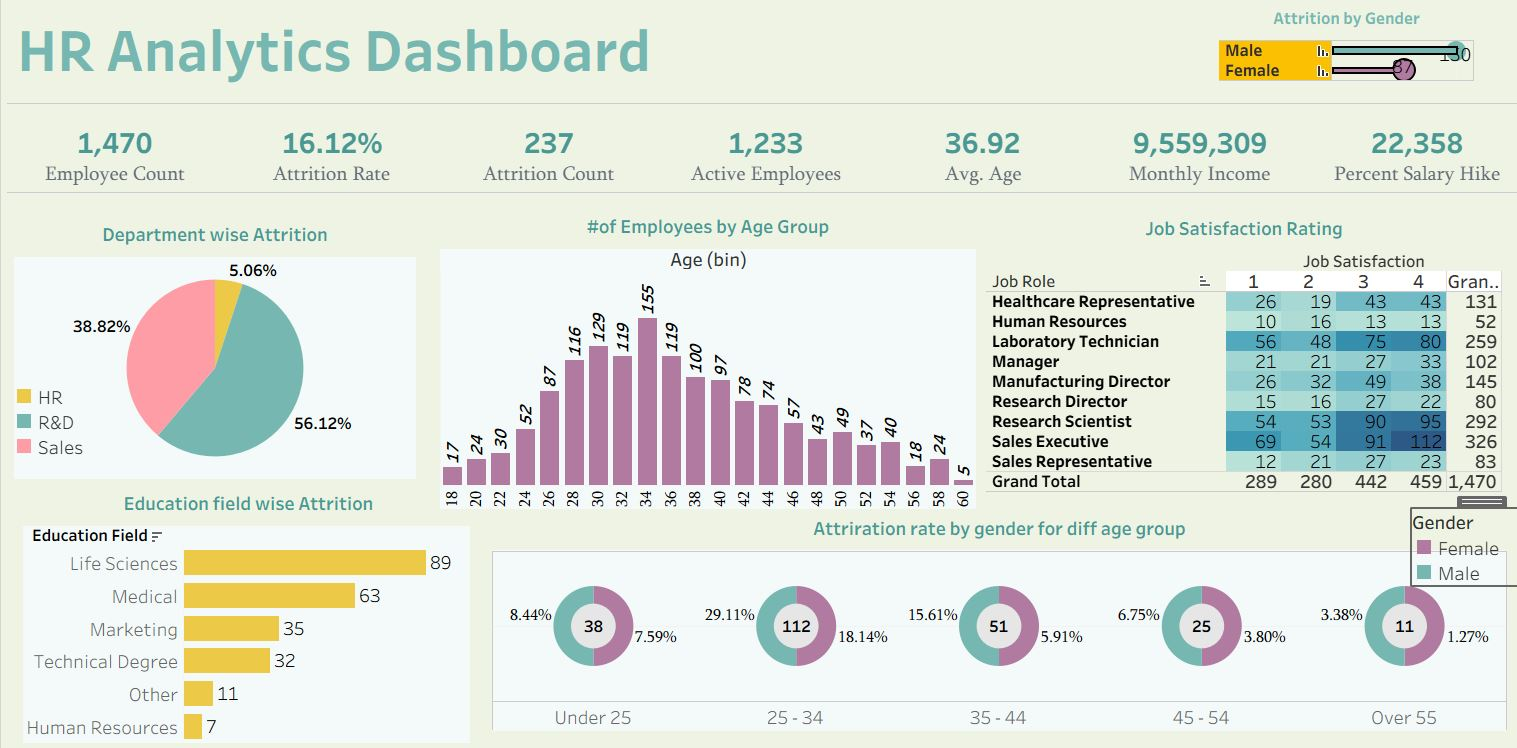

The dashboard page shown, as its layout file describes it:
{"tool":"tableau","page":{"name":"HR Analytics Dashboard","canvas":[1000,1000],"units":"permille","ordinal":0},"visuals":[{"type":"worksheet","title":"Attrition by Gender","mark":"Automatic","rows":["Gender"],"cols":["Calculation_377457991747145728","Calculation_377457991747145728"],"box":[759.4,6.6,159,125.3]},{"type":"title","box":[5,10.6,990,110.8]},{"type":"worksheet","title":"KPI","mark":"Text","box":[3.7,138.5,993.8,167.6]},{"type":"worksheet","title":"#of Employees by Age Group","mark":"Automatic","rows":["Employee Count"],"cols":["Age (bin)"],"box":[273.7,278.4,334.2,395.8]},{"type":"worksheet","title":"Job Satisfaction Rating","mark":"Square","rows":["Job Role"],"cols":["Job Satisfaction"],"box":[614.1,281,351,403.7]},{"type":"worksheet","title":"Department wise Attrition","mark":"Pie","box":[8.1,288.9,250.6,345.7]},{"type":"legend","title":"Department wise Attrition","param":"[federated.1kn44gk0kx10pj1g5tiuc16ypgdg].[none:Department:nk]","box":[6.8,509.3,106.5,144.4]},{"type":"worksheet","title":" Education field wise Attrition","mark":"Automatic","rows":["Education Field"],"cols":["Calculation_377457991747145728"],"box":[13.7,643.8,278.7,339.1]},{"type":"legend","title":"Attriration rate by gender for diff age group","param":"[federated.1kn44gk0kx10pj1g5tiuc16ypgdg].[none:Gender:nk]","box":[879.7,674.1,87.3,100.3]},{"type":"worksheet","title":"Attriration rate by gender for diff age group","mark":"Pie","rows":["Calculation_242631478297653251","Calculation_242631478297653251"],"cols":["CF_age band"],"box":[306.1,676.8,632.8,290.2]}]}

Visuals, with their boxes on the dashboard's canvas, which has no fixed pixel size, in thousandths of its width and height (x1, y1, x2, y2). These are canvas units, not pixel positions in the 1517x748 screenshot, which may show the page scaled, cropped or inside an application window:
"Attrition by Gender" worksheet: Rect(759, 7, 918, 132)
title: Rect(5, 11, 995, 121)
"KPI" worksheet (Text marks): Rect(4, 138, 998, 306)
"#of Employees by Age Group" worksheet: Rect(274, 278, 608, 674)
"Job Satisfaction Rating" worksheet (Square marks): Rect(614, 281, 965, 685)
"Department wise Attrition" worksheet (Pie marks): Rect(8, 289, 259, 635)
"Department wise Attrition" legend: Rect(7, 509, 113, 654)
" Education field wise Attrition" worksheet: Rect(14, 644, 292, 983)
"Attriration rate by gender for diff age group" legend: Rect(880, 674, 967, 774)
"Attriration rate by gender for diff age group" worksheet (Pie marks): Rect(306, 677, 939, 967)
